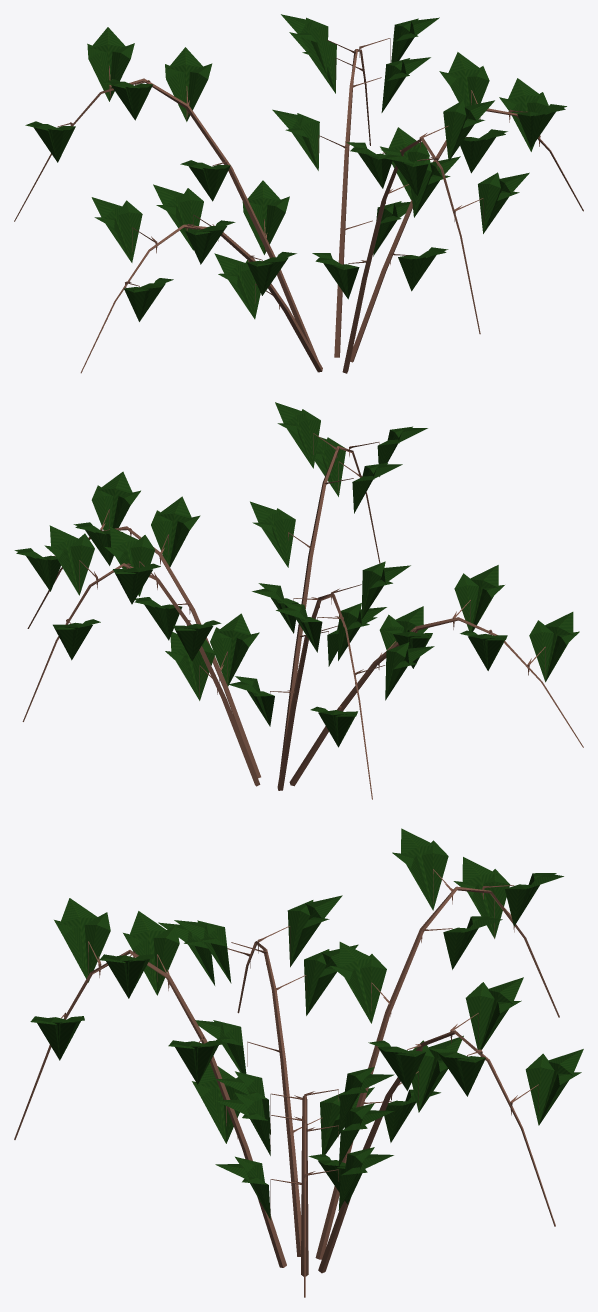
The model's file is Bramble_Clump_01_LOD1.fbx.
3 renders of one model, top to bottom at view 1: azimuth 30°, elevation 25°; view 2: azimuth 150°, elevation 25°; view 3: azimuth 270°, elevation 25°, orthographic. The views are drawn at different scales.
Parts seen in each view (by area): view 1: Bramble_Clump_01_LOD1_Mesh; view 2: Bramble_Clump_01_LOD1_Mesh; view 3: Bramble_Clump_01_LOD1_Mesh.
Part boxes in pixels (bbox=[...]): Bramble_Clump_01_LOD1_Mesh: bbox=[14, 14, 583, 373]; Bramble_Clump_01_LOD1_Mesh: bbox=[14, 402, 583, 799]; Bramble_Clump_01_LOD1_Mesh: bbox=[14, 828, 583, 1297].
Bounding box in the file's own units: 165 × 90.46 × 133.
